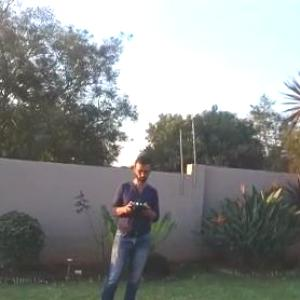follow: (88, 150, 166, 299)
